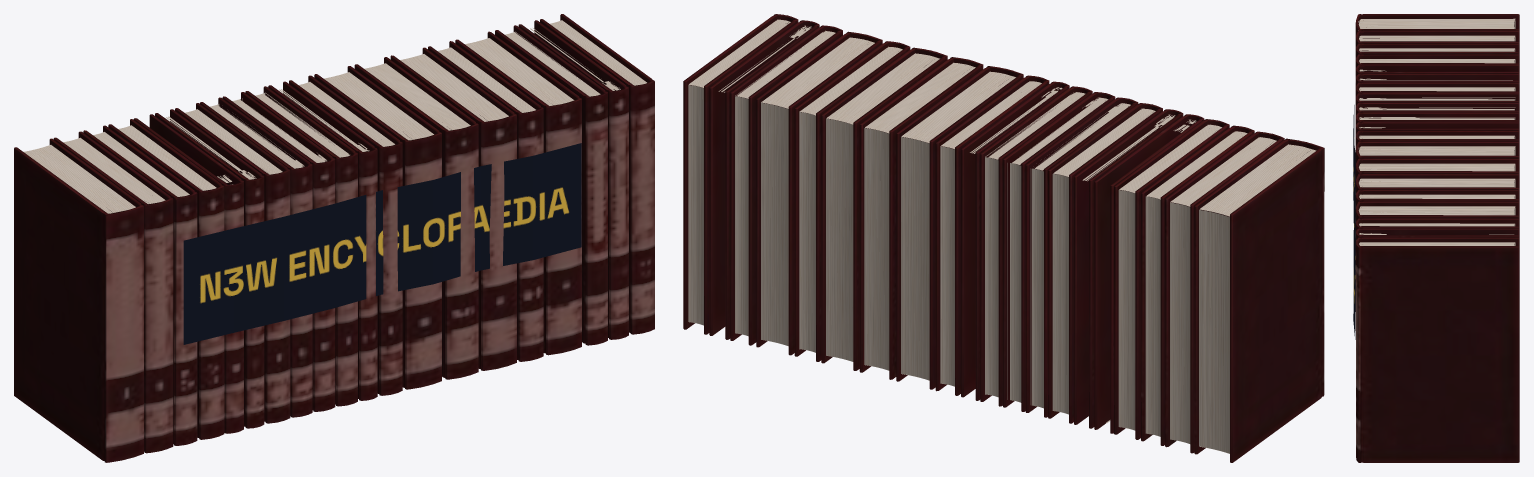
Rendered from nyb_deskset_books.glb.
The picture shows the model from 3 angles, left to right: view 1: azimuth 30°, elevation 25°; view 2: azimuth 150°, elevation 25°; view 3: azimuth 270°, elevation 25°; orthographic projection. The views are drawn at different scales.
Parts seen in each view (by area): view 1: book_encyclopedia_set_01_book01, stk_lbl_b3f08f60c1.png; view 2: book_encyclopedia_set_01_book01; view 3: book_encyclopedia_set_01_book01, stk_lbl_b3f08f60c1.png.
Boxes of the visible parts, left/top/right/bottom form: book_encyclopedia_set_01_book01: left=14, top=14, right=654, bottom=462; stk_lbl_b3f08f60c1.png: left=183, top=143, right=581, bottom=344; book_encyclopedia_set_01_book01: left=683, top=14, right=1324, bottom=462; book_encyclopedia_set_01_book01: left=1355, top=14, right=1519, bottom=462; stk_lbl_b3f08f60c1.png: left=1353, top=105, right=1355, bottom=339.
Size of the model in its own units: 0.5513 by 0.2374 by 0.1658.
Materials: 3 (3 with a texture image).
